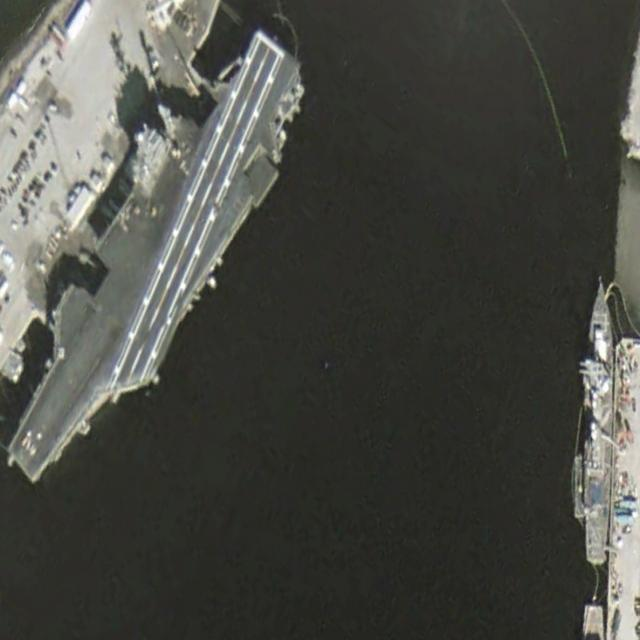Aircraft Carrier: (1, 1, 320, 523)
Destroyer: (579, 278, 618, 565)
